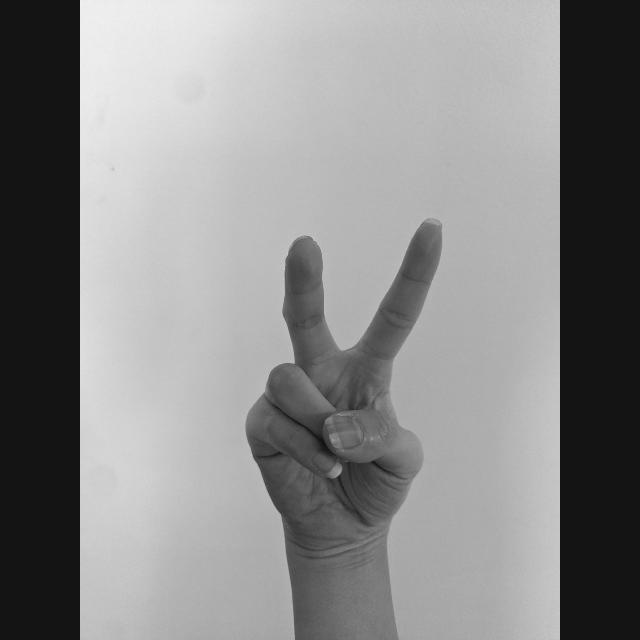V: (240, 210, 448, 552)
